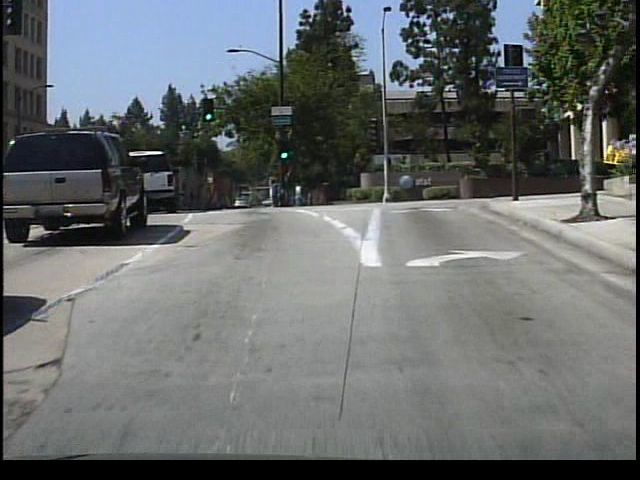person: (267, 172, 287, 210), (292, 179, 308, 208)
